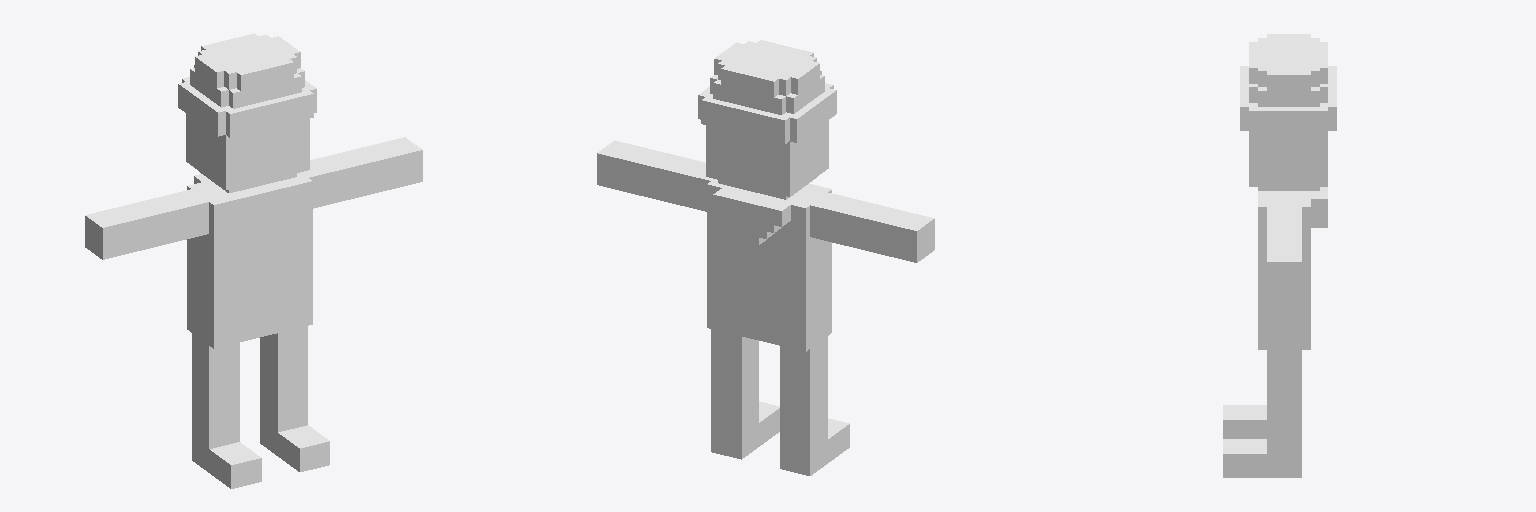
Rendered from thief.obj.
The picture shows the model from 3 angles: view 1: azimuth 30°, elevation 25°; view 2: azimuth 150°, elevation 25°; view 3: azimuth 270°, elevation 25°; orthographic projection.
Visible parts, largest first — view 1: object 1; view 2: object 1; view 3: object 1.
Part boxes in pixels (x1,y1,x2,y2): object 1: (85, 33, 422, 488); object 1: (597, 40, 934, 475); object 1: (1223, 34, 1336, 477).
Bounding box in the file's own units: 4.2 × 5 × 1.3.